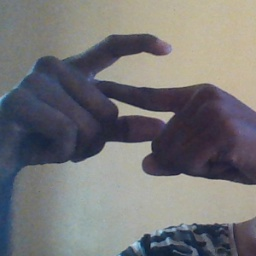E: (72, 33, 178, 151)
